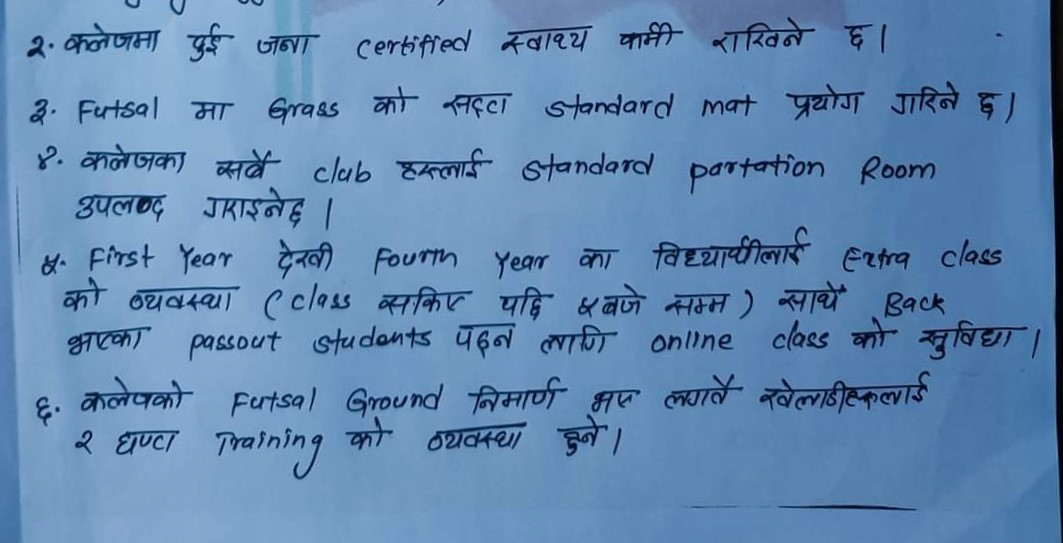text: (756, 367, 940, 415), (649, 221, 811, 272), (916, 318, 1023, 364), (707, 15, 814, 59), (197, 188, 308, 230), (77, 373, 186, 415), (464, 375, 564, 417), (72, 142, 193, 176), (423, 419, 528, 457), (782, 80, 866, 126), (124, 282, 237, 315), (497, 22, 595, 60), (389, 146, 491, 182), (60, 22, 164, 57), (374, 282, 473, 318), (660, 369, 741, 413), (885, 77, 964, 121), (69, 188, 168, 223), (64, 323, 151, 361), (537, 321, 618, 361), (269, 238, 335, 282), (451, 318, 518, 360), (777, 279, 849, 317), (578, 280, 644, 321), (212, 146, 282, 184), (441, 86, 516, 121), (110, 427, 186, 461), (661, 287, 734, 321), (612, 22, 685, 51), (340, 415, 394, 454), (182, 21, 228, 65), (495, 285, 552, 319), (255, 32, 323, 60), (555, 421, 607, 456), (845, 315, 889, 356), (590, 381, 639, 415), (368, 84, 415, 119), (572, 243, 620, 277), (62, 277, 102, 315), (185, 97, 236, 125), (843, 19, 872, 55), (973, 88, 1003, 121), (33, 247, 62, 280), (66, 426, 99, 454), (30, 390, 53, 427), (30, 143, 58, 173), (22, 32, 48, 63), (25, 94, 51, 125)
